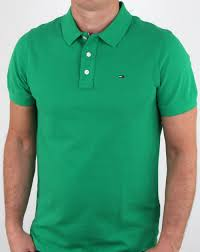S_polo shirt: (7, 6, 198, 252)
